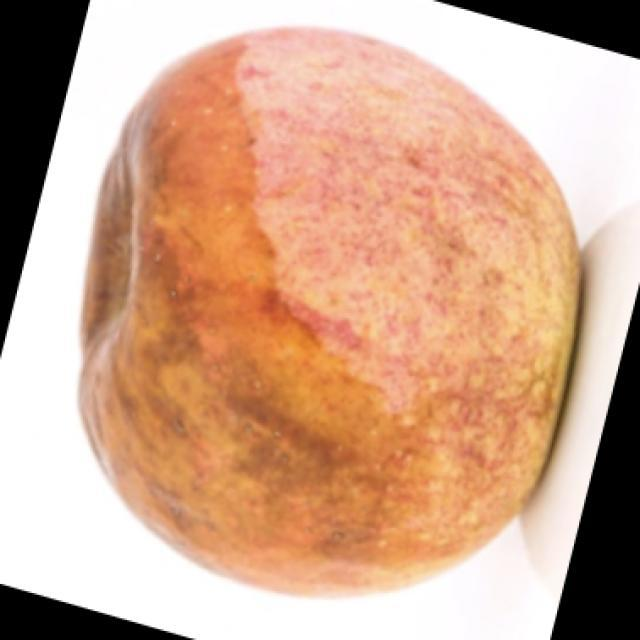Rotten: (88, 25, 587, 640)
